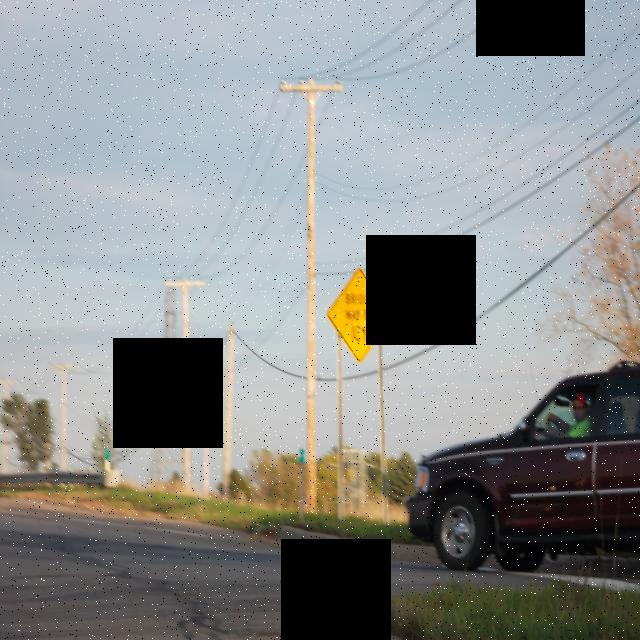warning: (326, 269, 394, 364)
